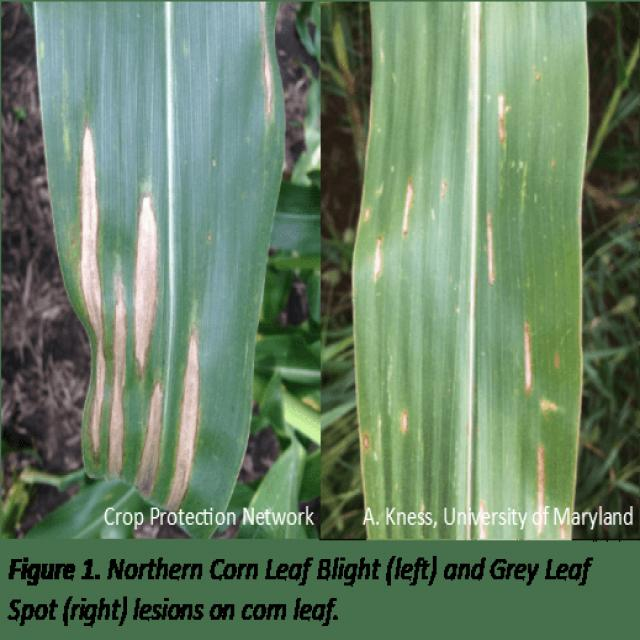blight: (64, 98, 226, 492)
